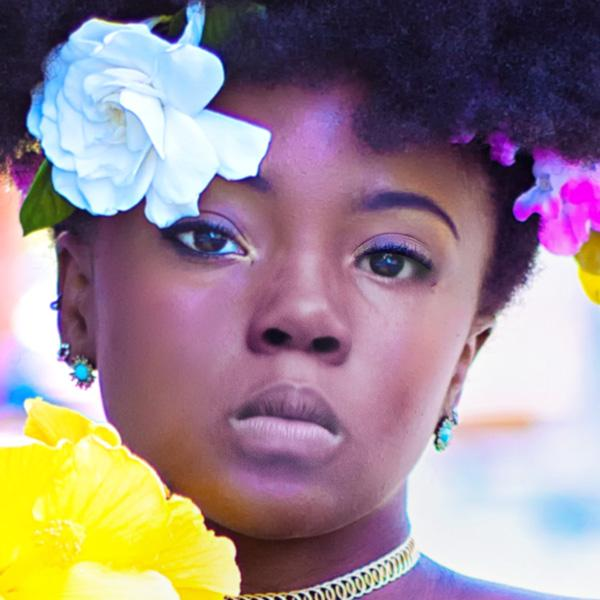Eyes: (149, 204, 263, 275), (344, 225, 441, 299)
